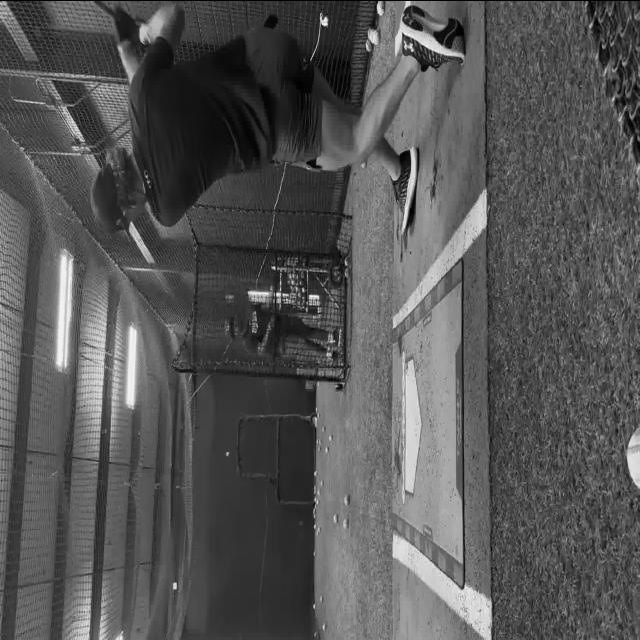base: (402, 349, 424, 494)
baseball: (626, 424, 640, 488), (376, 0, 384, 16), (365, 39, 373, 52), (344, 494, 349, 506), (342, 518, 348, 528), (333, 513, 338, 523), (328, 433, 332, 441), (322, 623, 326, 631), (320, 595, 324, 602), (312, 603, 316, 609), (325, 446, 329, 452)
shoe: (400, 5, 465, 71), (391, 146, 418, 234), (332, 326, 342, 346)
